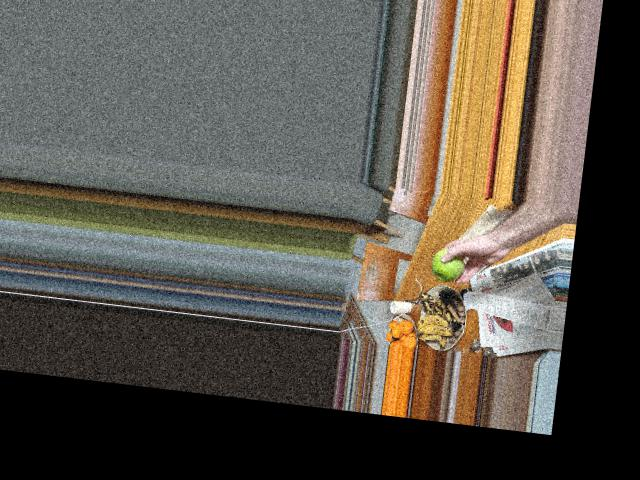apple: (428, 244, 472, 284)
